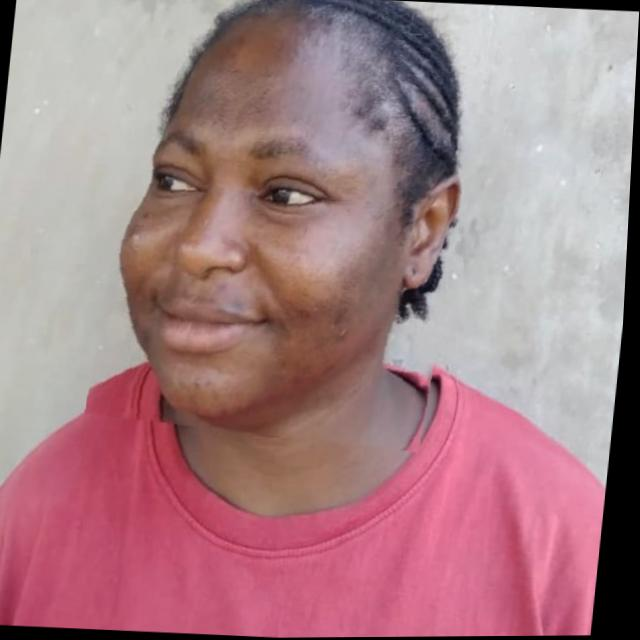happy: (93, 0, 488, 450)
